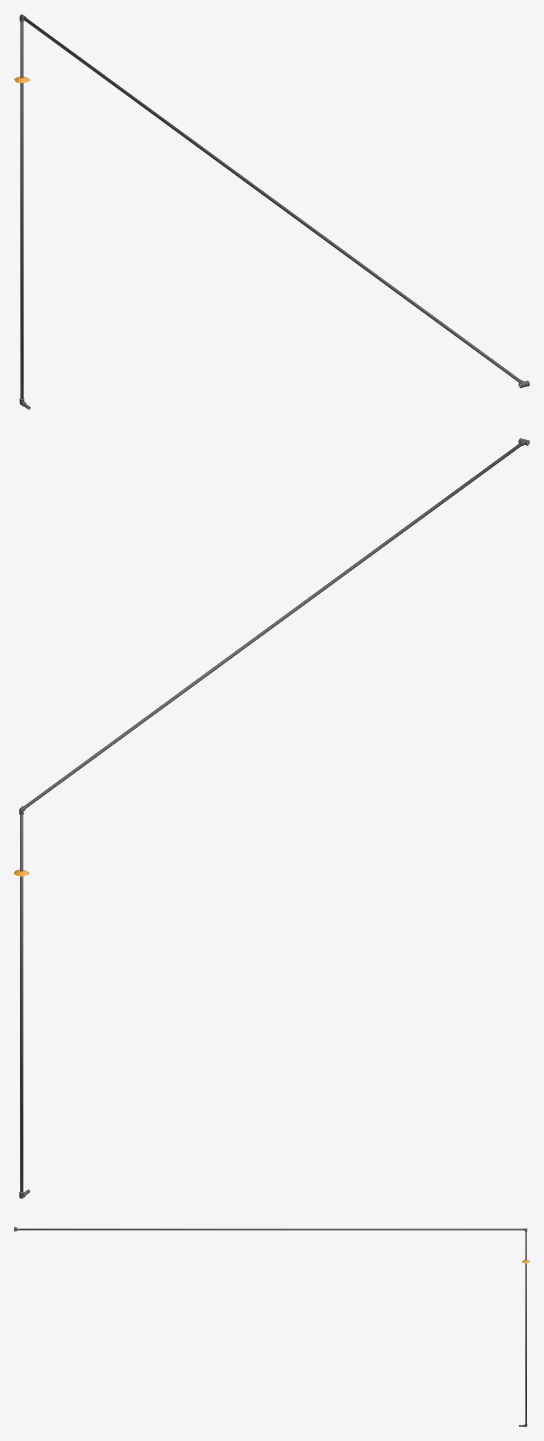
The model's file is slab_pipes_gas__water_heater-garage_tankless+garage_tankless_noncondensing.glb.
The picture shows the model from 3 angles, top to bottom: view 1: azimuth 30°, elevation 25°; view 2: azimuth 150°, elevation 25°; view 3: azimuth 270°, elevation 25°; orthographic projection. The views are drawn at different scales.
Visible parts, largest first — view 1: pipe_gas_drop_wh_tankless; view 2: pipe_gas_drop_wh_tankless; view 3: pipe_gas_drop_wh_tankless.
Part boxes in pixels (x1=…): pipe_gas_drop_wh_tankless: x1=20, y1=17, x2=521, y2=409; pipe_gas_drop_wh_tankless: x1=20, y1=442, x2=522, y2=1194; pipe_gas_drop_wh_tankless: x1=18, y1=1228, x2=526, y2=1426.
Size of the model in its own units: 0.1008 by 2.7 by 6.36.
